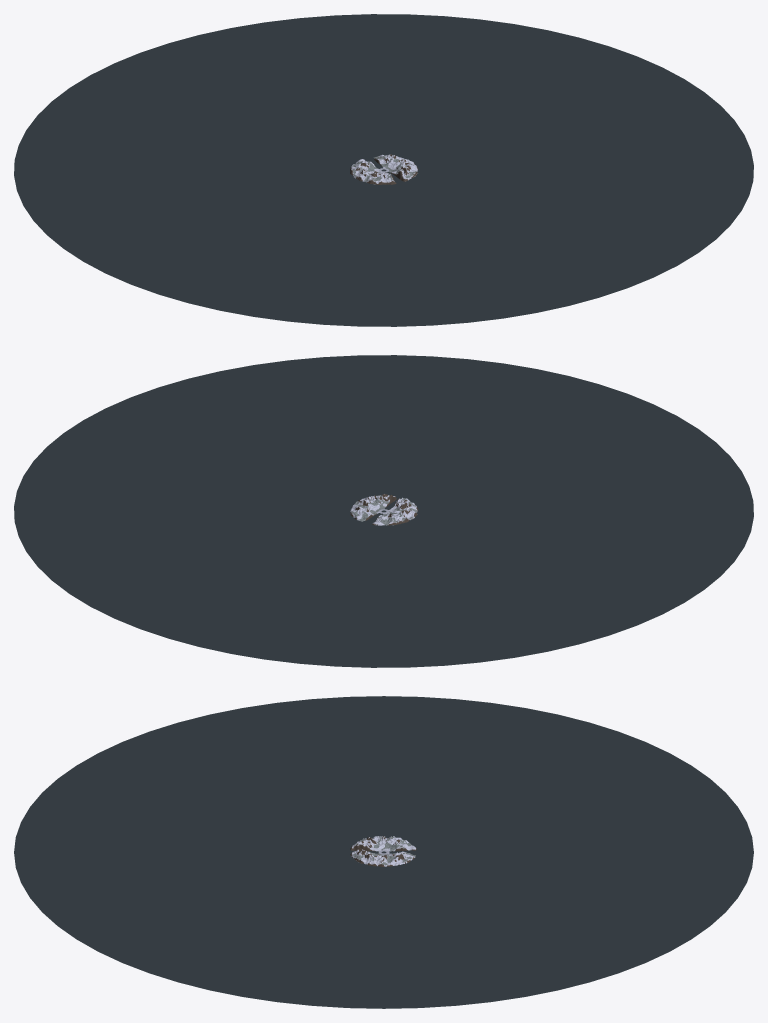
File: backdrop_near_c42_winter.glb
3 views of the same model, one above another, from view 1: azimuth 30°, elevation 25°; view 2: azimuth 150°, elevation 25°; view 3: azimuth 270°, elevation 25° (orthographic).
Parts seen in each view (by area): view 1: water_N, water_S, water_W, water_E; view 2: water_N, water_S, water_W, water_E; view 3: water_E, water_N, water_S, water_W, near_land_E.
Boxes of the visible parts, x1,y1,x2,y2 form: water_N: [26, 14, 479, 170]; water_S: [288, 170, 741, 326]; water_W: [14, 130, 383, 321]; water_E: [384, 19, 753, 210]; water_N: [26, 511, 479, 667]; water_S: [288, 355, 741, 511]; water_W: [384, 471, 753, 662]; water_E: [14, 360, 383, 551]; water_E: [123, 852, 644, 1008]; water_N: [384, 742, 753, 962]; water_S: [14, 742, 383, 962]; water_W: [123, 696, 644, 852]; near_land_E: [360, 852, 407, 866].
Size of the model in its own units: 6000 by 167 by 6000.
4 materials, 3 textured.
